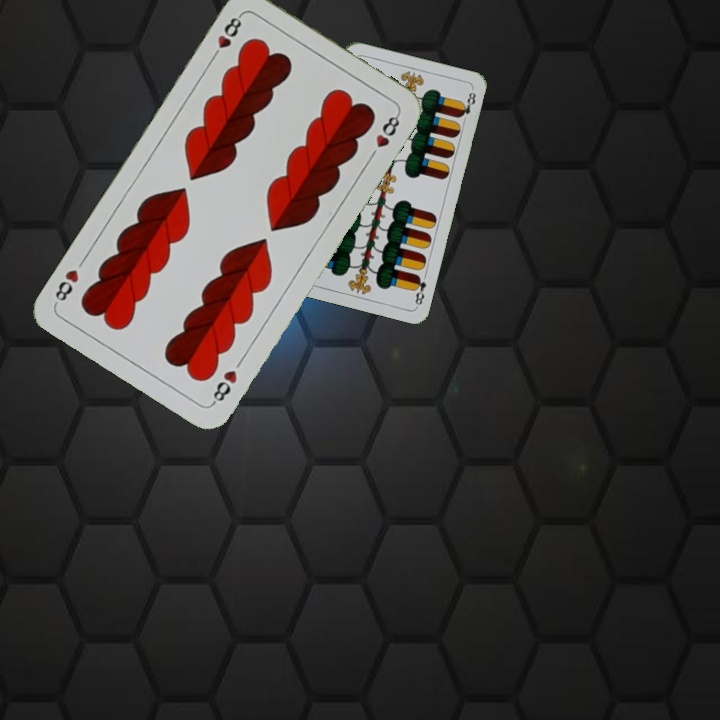E8: (409, 271, 429, 309)
H8: (207, 10, 245, 63), (207, 366, 240, 407)
